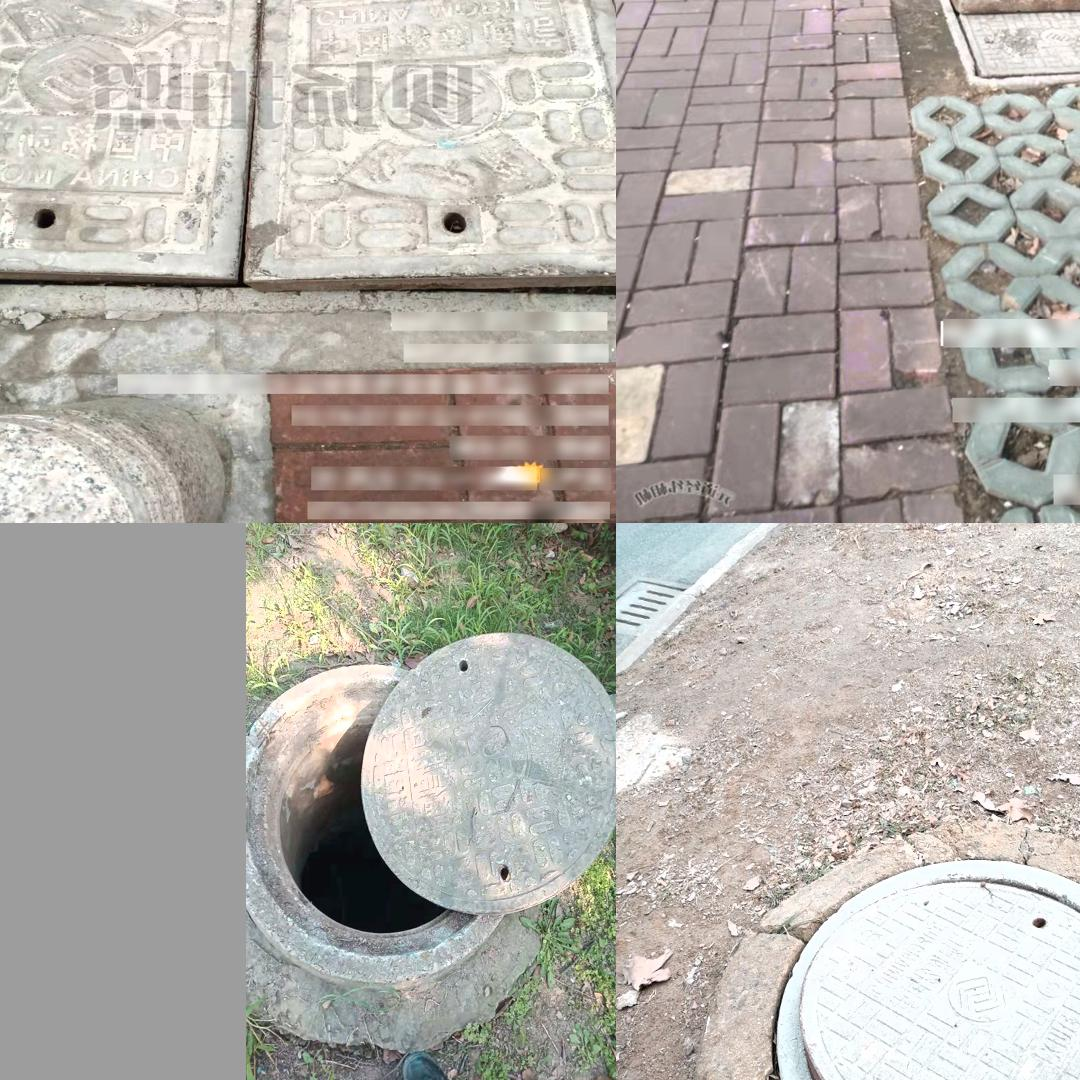uncovered: (0, 0, 614, 310), (246, 630, 611, 986), (772, 856, 1080, 1080), (917, 0, 1080, 21)
